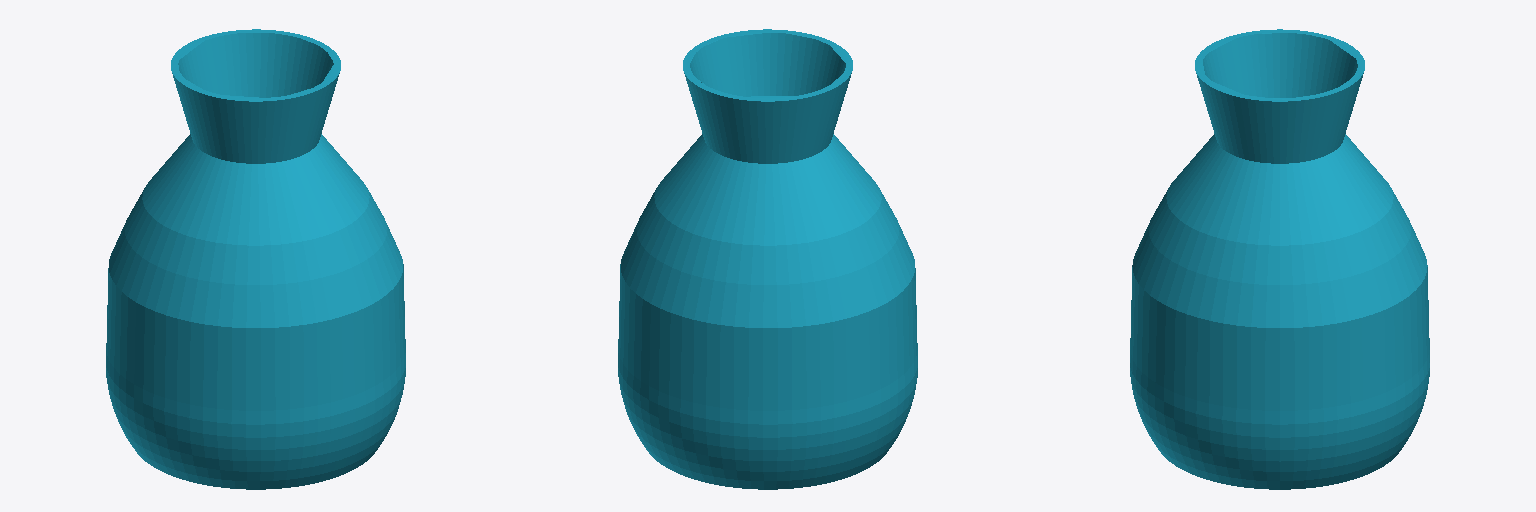
The model's file is FlowePot.obj.
The picture shows the model from 3 angles: view 1: azimuth 30°, elevation 25°; view 2: azimuth 150°, elevation 25°; view 3: azimuth 270°, elevation 25°; orthographic projection.
Visible parts, largest first — view 1: Sphere_Sphere.001; view 2: Sphere_Sphere.001; view 3: Sphere_Sphere.001.
Boxes of the visible parts, x1,y1,x2,y2 form: Sphere_Sphere.001: [106, 29, 405, 489]; Sphere_Sphere.001: [618, 29, 917, 489]; Sphere_Sphere.001: [1130, 29, 1429, 489].
Bounding box in the file's own units: 2 × 2.79 × 2.